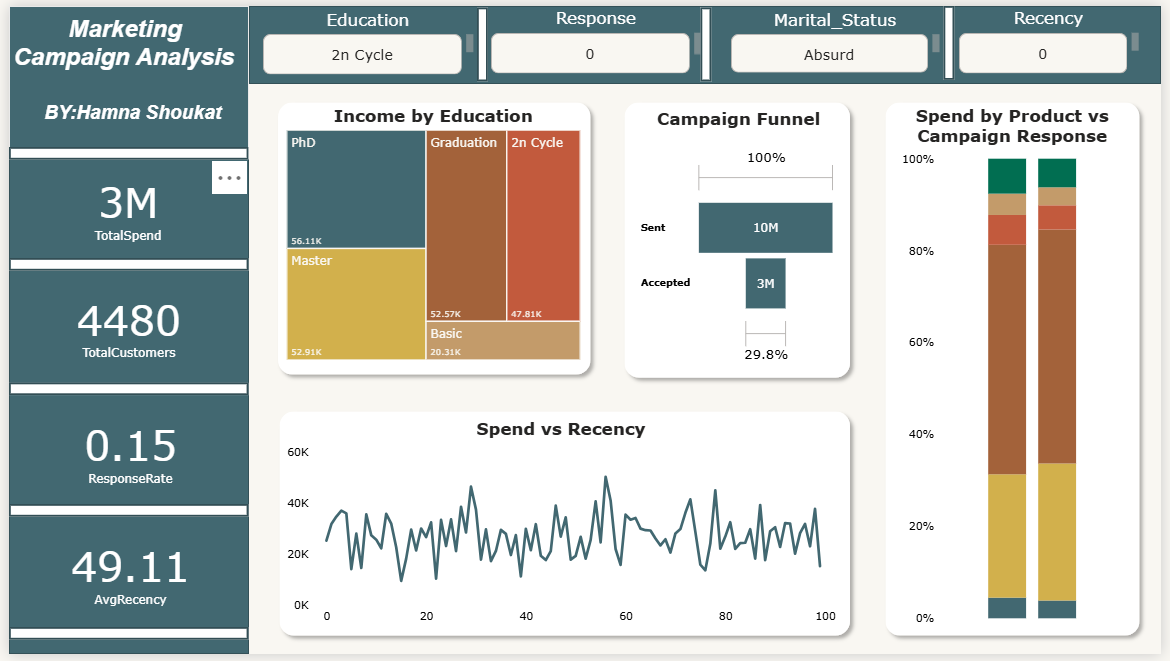

The page's visual inventory and layout, read from the dashboard file:
{"tool":"powerbi","page":{"name":"Page 1","canvas":[1280,720],"ordinal":0},"visuals":[{"type":"advancedSlicerVisual","fields":{"Values":["Append.Education"]},"box":[30,300,213.3,76.7],"z":0},{"type":"advancedSlicerVisual","fields":{"Values":["Append.Response"]},"box":[31.7,321.7,215,75],"z":1000},{"type":"shape","box":[0,0,266.7,720],"z":2000},{"type":"textbox","box":[0,0,266,170],"z":3000},{"type":"shape","box":[266.7,0,1013.3,86.7],"z":4000},{"type":"card","fields":{"Values":["Append.ResponseRate"]},"box":[2,432,266,126],"z":5000},{"type":"card","fields":{"Values":["Append.TotalCustomers"]},"box":[0,294,266,124],"z":6000},{"type":"card","fields":{"Values":["Append.AvgRecency"]},"box":[2,568,266,122],"z":7000},{"type":"card","fields":{"Values":["Append.TotalSpend"]},"box":[0,170,264,110],"z":8000},{"type":"advancedSlicerVisual","fields":{"Values":["Append.Education"]},"box":[276,4,244,78],"z":9000},{"type":"advancedSlicerVisual","fields":{"Values":["Append.Response"]},"box":[530,2,244,78],"z":10000},{"type":"advancedSlicerVisual","fields":{"Values":["Append.Marital_Status"]},"box":[796,4,242,76],"z":11000},{"type":"advancedSlicerVisual","fields":{"Values":["Append.Recency"]},"box":[1050,2,210,78],"z":12000},{"type":"shape","box":[290,98.3,365,320],"z":13000},{"type":"treemap","title":"Income by Education","fields":{"Group":["Append.Education"],"Values":["Avg(Append.Income)"]},"box":[304,110,336,288],"z":14000},{"type":"shape","box":[675,98.3,268.3,323.3],"z":15000},{"type":"funnel","title":"Campaign Funnel ","fields":{"Category":["CampaignFunnel.Stage"],"Y":["Sum(CampaignFunnel.Count)"]},"box":[696,114,228,304],"z":16000},{"type":"shape","box":[291.7,441.7,651.7,266.7],"z":17000},{"type":"lineChart","title":"Spend vs Recency","fields":{"Y":["Append.TotalSpend"],"Category":["Append.Recency"]},"box":[304,458,620,236],"z":18000},{"type":"shape","box":[965,98.3,300,610],"z":19000},{"type":"hundredPercentStackedColumnChart","title":"Spend by Product vs Campaign Response","fields":{"Category":["Append.Response"],"Y":["Sum(Append.MntFruits)","Sum(Append.MntMeatProducts)","Sum(Append.MntWines)","Sum(Append.MntFishProducts)","Sum(Append.MntSweetProducts)","Sum(Append.MntGoldProds)"]},"box":[986,110,256,584],"z":20000},{"type":"shape","box":[0,156,266,14],"z":21000},{"type":"shape","box":[0,280,266,14],"z":22000},{"type":"shape","box":[0,418,266,14],"z":23000},{"type":"shape","box":[0,554,266,14],"z":24000},{"type":"shape","box":[0,690,266,14],"z":25000},{"type":"shape","box":[520,2,12,82],"z":26000},{"type":"shape","box":[1038,0,12,82],"z":27000},{"type":"shape","box":[768,2,12,82],"z":28000}]}

Visuals, with their boxes in screenshot pixels (x1, y1, x2, y2), scaled from the page's 1280x720 canvas onto the 1170x661 screenshot:
advancedSlicerVisual - Append.Education: l=27, t=275, r=222, b=346
advancedSlicerVisual - Append.Response: l=29, t=295, r=225, b=364
shape: l=0, t=0, r=244, b=660
textbox: l=0, t=0, r=243, b=156
shape: l=244, t=0, r=1169, b=80
card - Append.ResponseRate: l=2, t=397, r=245, b=512
card - Append.TotalCustomers: l=0, t=270, r=243, b=384
card - Append.AvgRecency: l=2, t=521, r=245, b=633
card - Append.TotalSpend: l=0, t=156, r=241, b=257
advancedSlicerVisual - Append.Education: l=252, t=4, r=475, b=75
advancedSlicerVisual - Append.Response: l=484, t=2, r=707, b=73
advancedSlicerVisual - Append.Marital_Status: l=728, t=4, r=949, b=73
advancedSlicerVisual - Append.Recency: l=960, t=2, r=1152, b=73
shape: l=265, t=90, r=599, b=384
"Income by Education" treemap: l=278, t=101, r=585, b=365
shape: l=617, t=90, r=862, b=387
"Campaign Funnel " funnel: l=636, t=105, r=845, b=384
shape: l=267, t=406, r=862, b=650
"Spend vs Recency" lineChart: l=278, t=420, r=845, b=637
shape: l=882, t=90, r=1156, b=650
"Spend by Product vs Campaign Response" hundredPercentStackedColumnChart: l=901, t=101, r=1135, b=637
shape: l=0, t=143, r=243, b=156
shape: l=0, t=257, r=243, b=270
shape: l=0, t=384, r=243, b=397
shape: l=0, t=509, r=243, b=521
shape: l=0, t=633, r=243, b=646
shape: l=475, t=2, r=486, b=77
shape: l=949, t=0, r=960, b=75
shape: l=702, t=2, r=713, b=77
